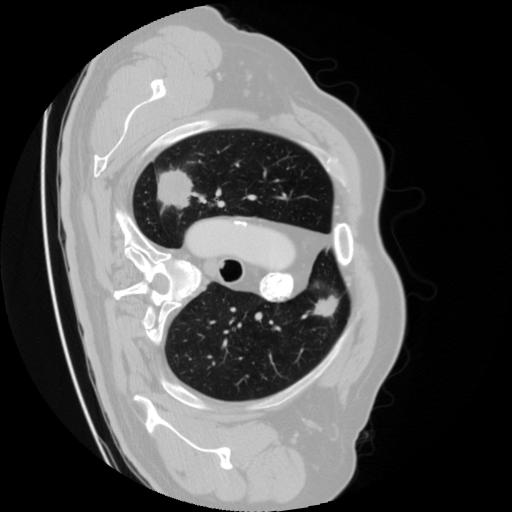nodule: (151, 166, 201, 216)
